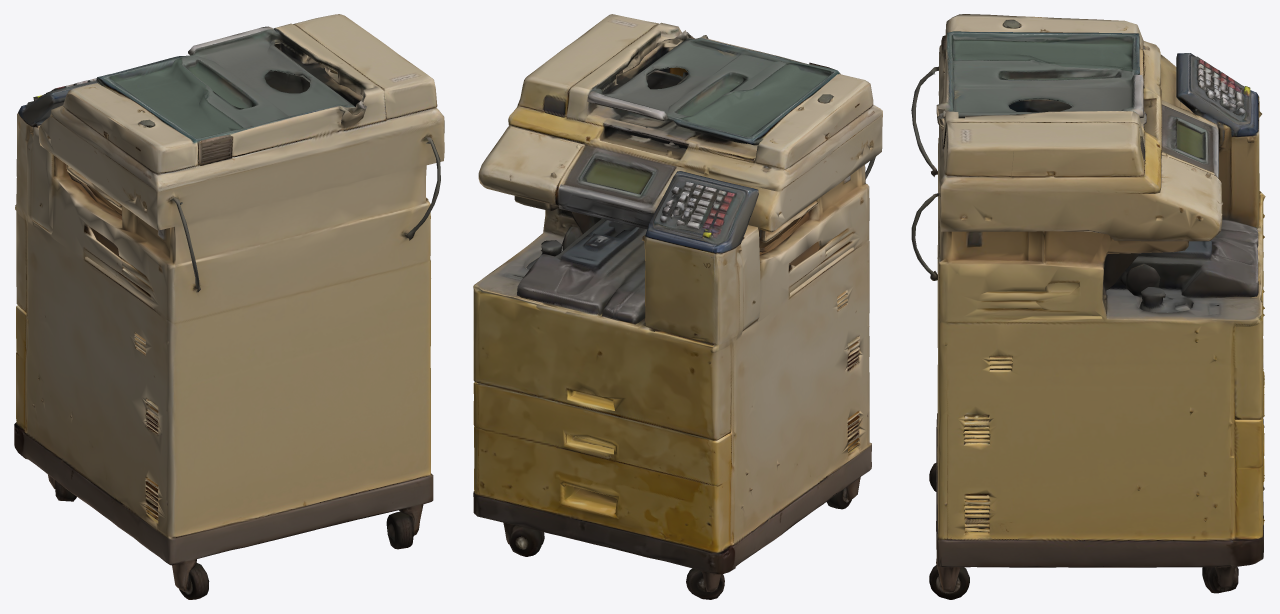
File: theme-photocopier-v05.glb
3 views of the same model, side by side, from view 1: azimuth 30°, elevation 25°; view 2: azimuth 150°, elevation 25°; view 3: azimuth 270°, elevation 25° (orthographic). The views are drawn at different scales.
Parts seen in each view (by area): view 1: tripo_node_afca9d55-35a6-4469-b256-7dfe7baf8afc; view 2: tripo_node_afca9d55-35a6-4469-b256-7dfe7baf8afc; view 3: tripo_node_afca9d55-35a6-4469-b256-7dfe7baf8afc.
Part boxes in pixels (box(x1,y1,x2,y2)): tripo_node_afca9d55-35a6-4469-b256-7dfe7baf8afc: box(14, 14, 444, 599); tripo_node_afca9d55-35a6-4469-b256-7dfe7baf8afc: box(473, 14, 882, 599); tripo_node_afca9d55-35a6-4469-b256-7dfe7baf8afc: box(911, 14, 1265, 599).
Bounding box in the file's own units: 0.7248 × 1.1 × 0.7515.
1 material, 1 textured.
